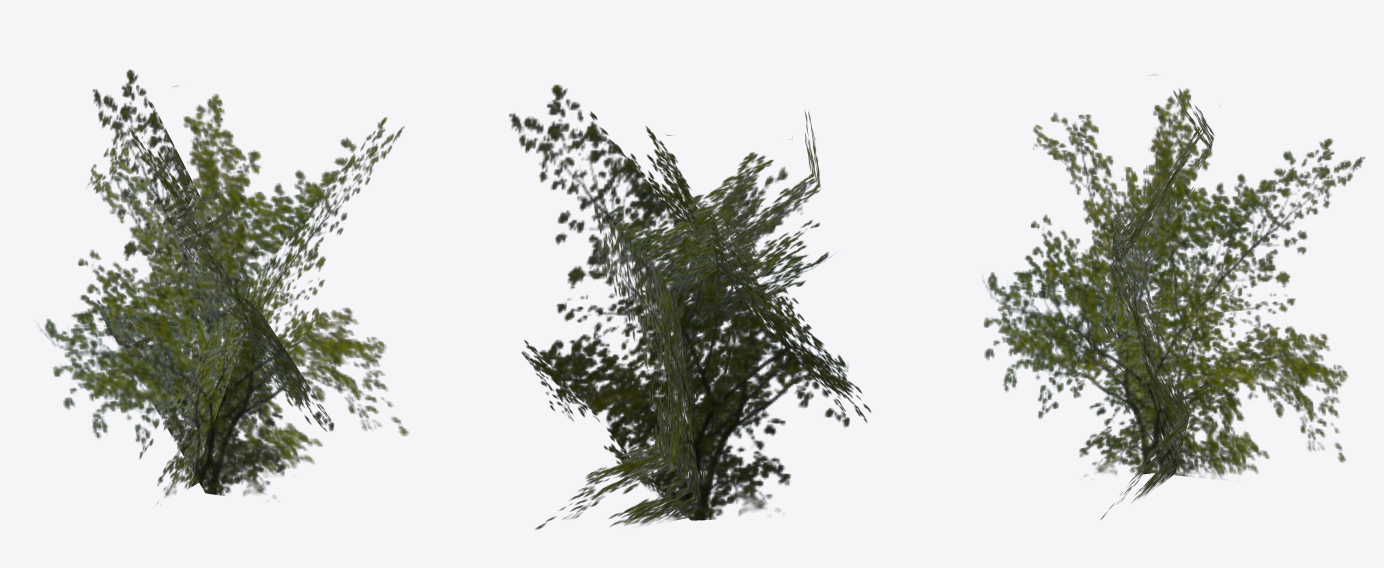
The model's file is Bush.glb.
3 views of the same model, side by side, from view 1: azimuth 30°, elevation 25°; view 2: azimuth 150°, elevation 25°; view 3: azimuth 270°, elevation 25° (orthographic). The views are drawn at different scales.
Visible parts, largest first — view 1: Bush; view 2: Bush; view 3: Bush.
Boxes of the visible parts, x1=… form: Bush: x1=38, y1=69, x2=408, y2=504; Bush: x1=509, y1=84, x2=871, y2=529; Bush: x1=982, y1=74, x2=1364, y2=519.
Size of the model in its own units: 3.01 by 3.11 by 3.01.
Materials: 1 (1 with a texture image).
